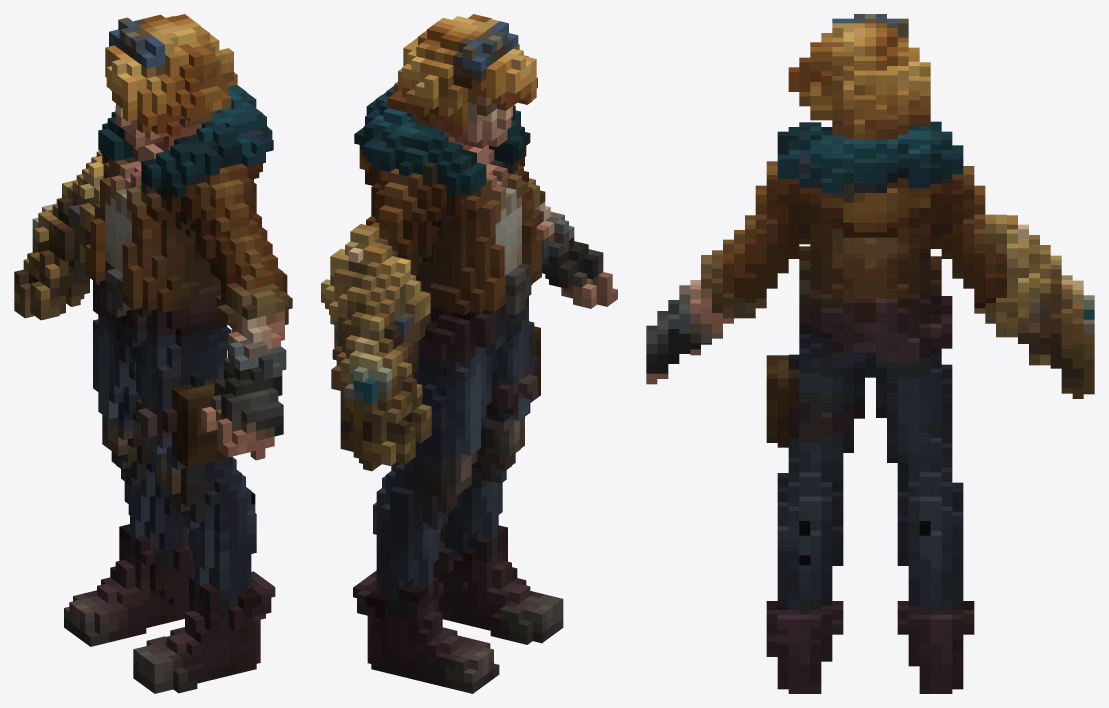
File: character.obj
The picture shows the model from 3 angles, left to right: view 1: azimuth 30°, elevation 25°; view 2: azimuth 150°, elevation 25°; view 3: azimuth 270°, elevation 25°; orthographic projection. The views are drawn at different scales.
Size of the model in its own units: 1.5 by 6.4 by 4.1.
Materials: 1 (1 with a texture image).
